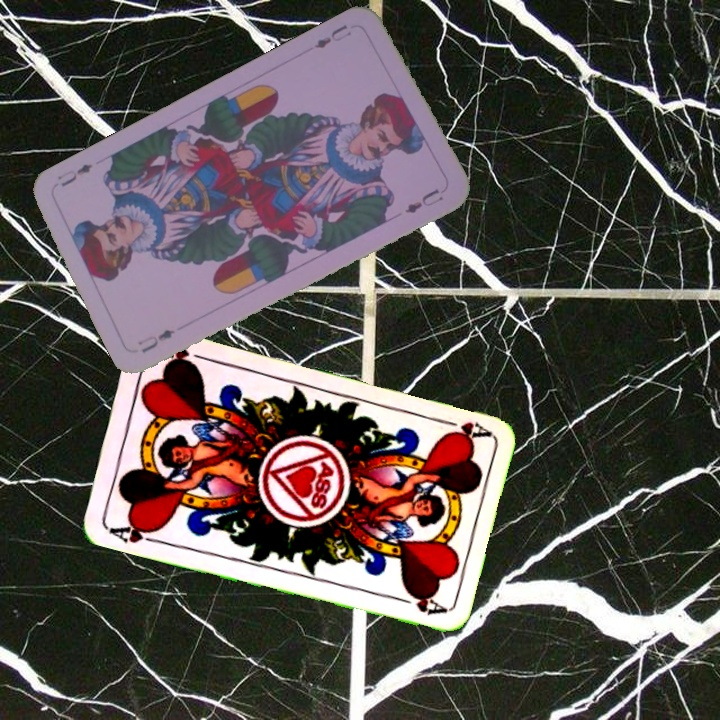EU: (310, 20, 354, 51), (134, 325, 178, 356)
HA: (433, 414, 492, 445), (105, 517, 163, 546)
